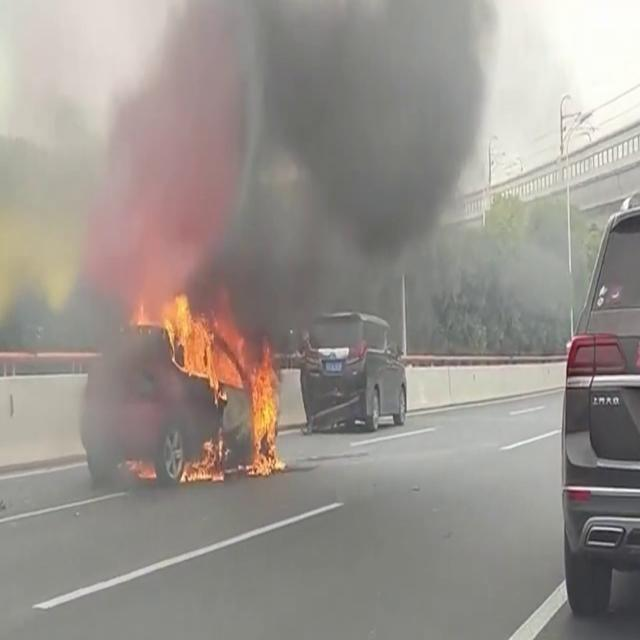normal: (559, 187, 640, 543), (296, 310, 420, 443)
single accident: (94, 286, 294, 489)
